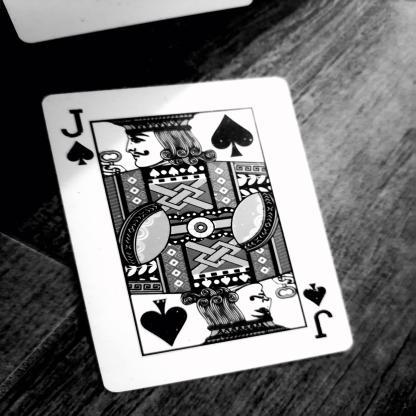JS: (298, 278, 354, 356), (58, 96, 104, 169)
